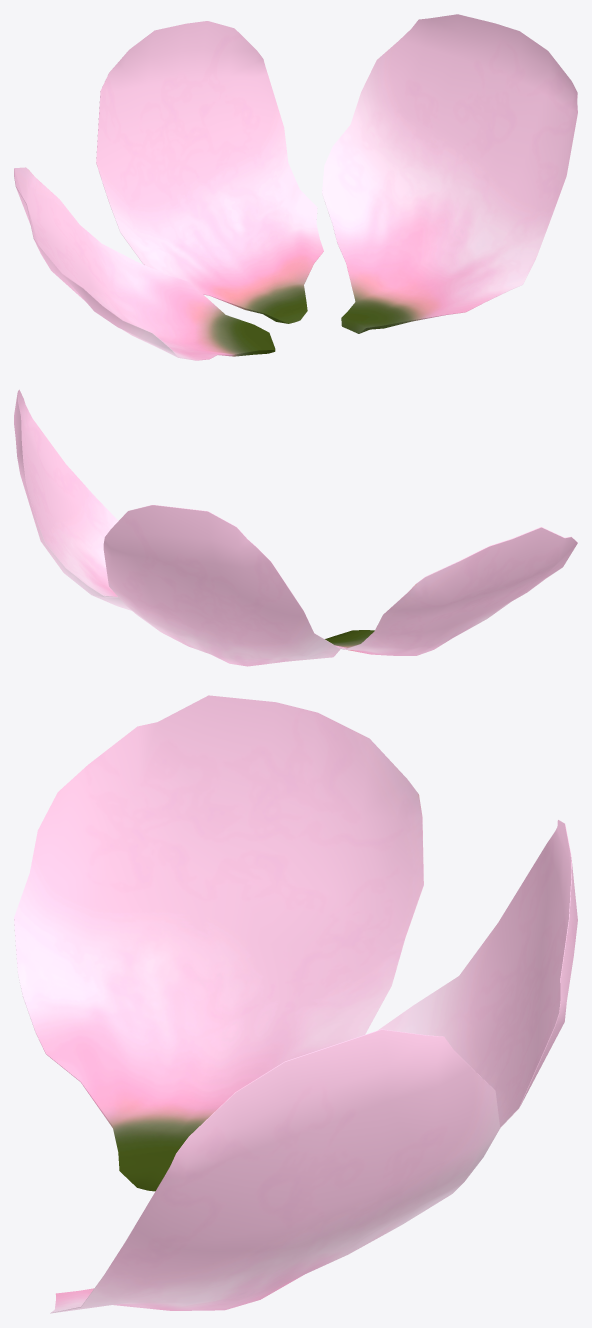
File: Petal_02.gltf
3 renders of one model, top to bottom at view 1: azimuth 30°, elevation 25°; view 2: azimuth 150°, elevation 25°; view 3: azimuth 270°, elevation 25°, orthographic. The views are drawn at different scales.
Visible parts, largest first — view 1: Petal_02; view 2: Petal_02; view 3: Petal_02.
Part boxes in pixels (left/top/right/bottom): Petal_02: left=14, top=14, right=577, bottom=360; Petal_02: left=14, top=389, right=577, bottom=666; Petal_02: left=14, top=695, right=577, bottom=1313.
Bounding box in the file's own units: 34.24 × 13.45 × 18.36.
Materials: 1 (1 with a texture image).
